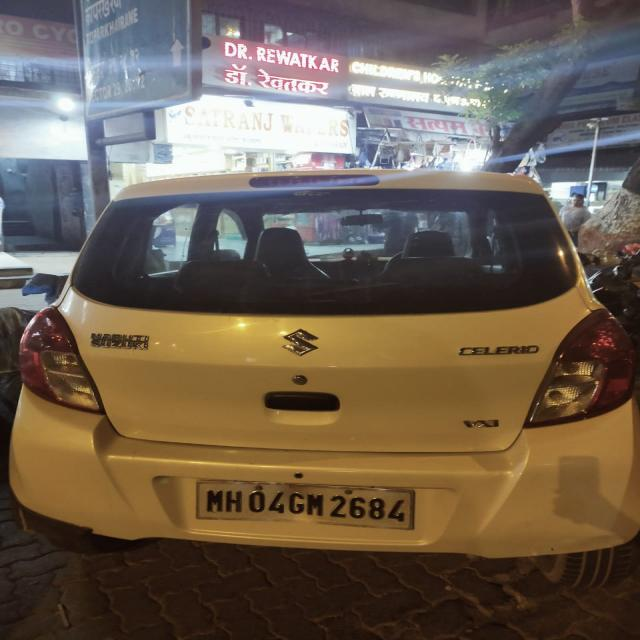Number-Plate: (193, 479, 421, 529)
